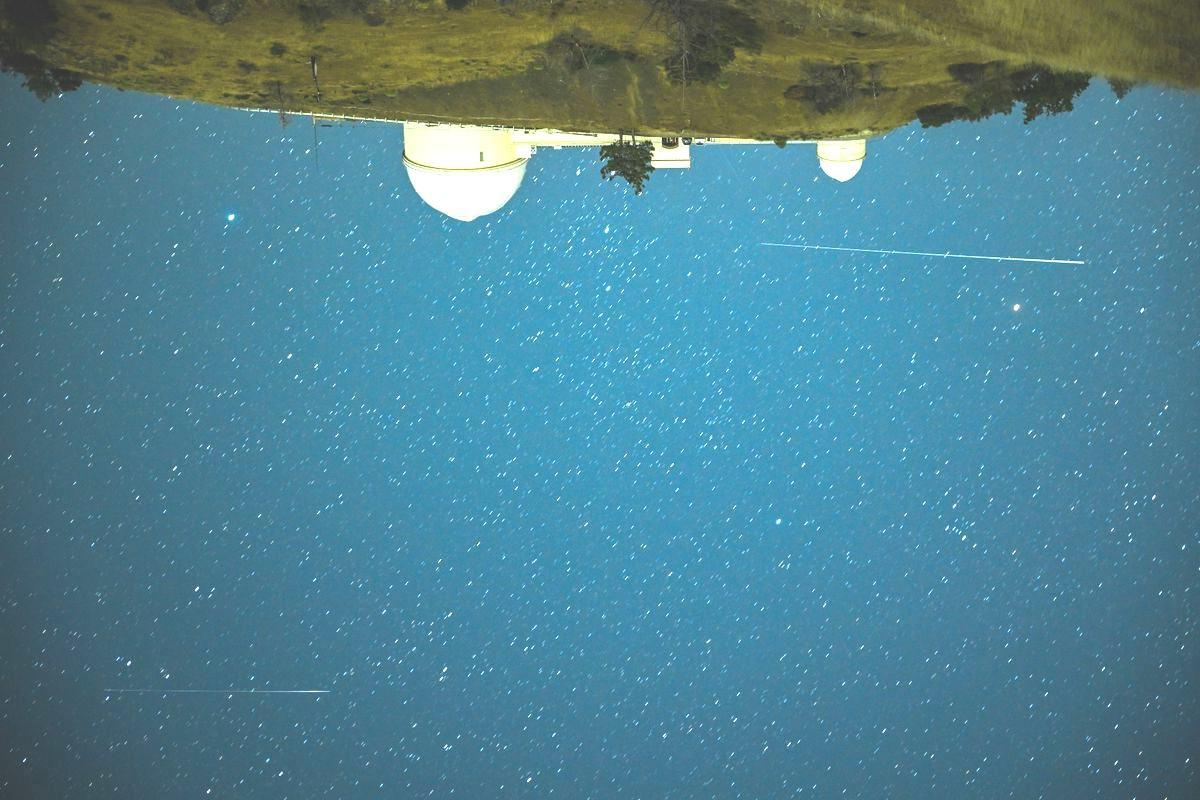meteorite: (687, 232, 1108, 283), (82, 673, 355, 705)
